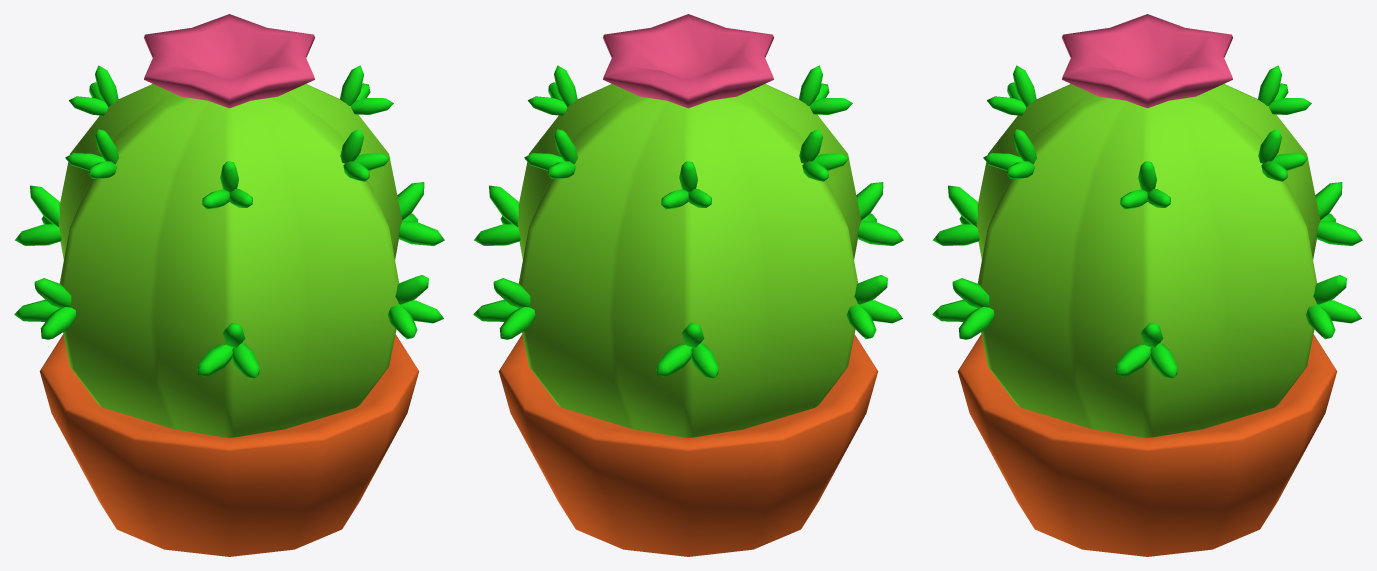
File: кактус_final.fbx
3 renders of one model, left to right at view 1: azimuth 30°, elevation 25°; view 2: azimuth 150°, elevation 25°; view 3: azimuth 270°, elevation 25°, orthographic.
Parts seen in each view (by area): view 1: кактус; view 2: кактус; view 3: кактус.
Part boxes in pixels (x1,y1,x2,y2): кактус: (14, 14, 444, 556); кактус: (473, 14, 903, 556); кактус: (932, 14, 1362, 556).
Size of the model in its own units: 17.81 by 19.06 by 16.51.
